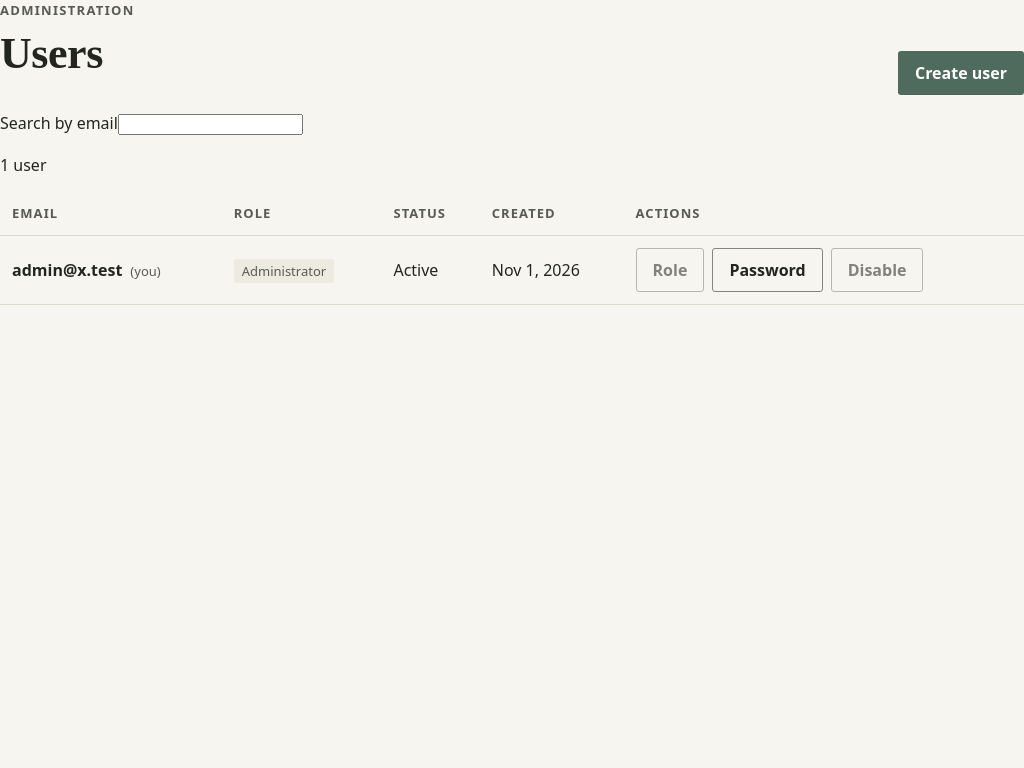
UsersPage › creates a user and shows the new list
This screenshot has width=1024, height=768.
Expected: the text "admin@x.test" is shown, [12,259,122,281]
Click the button "Create user".
click(961, 73)  # box [898,51,1023,95]
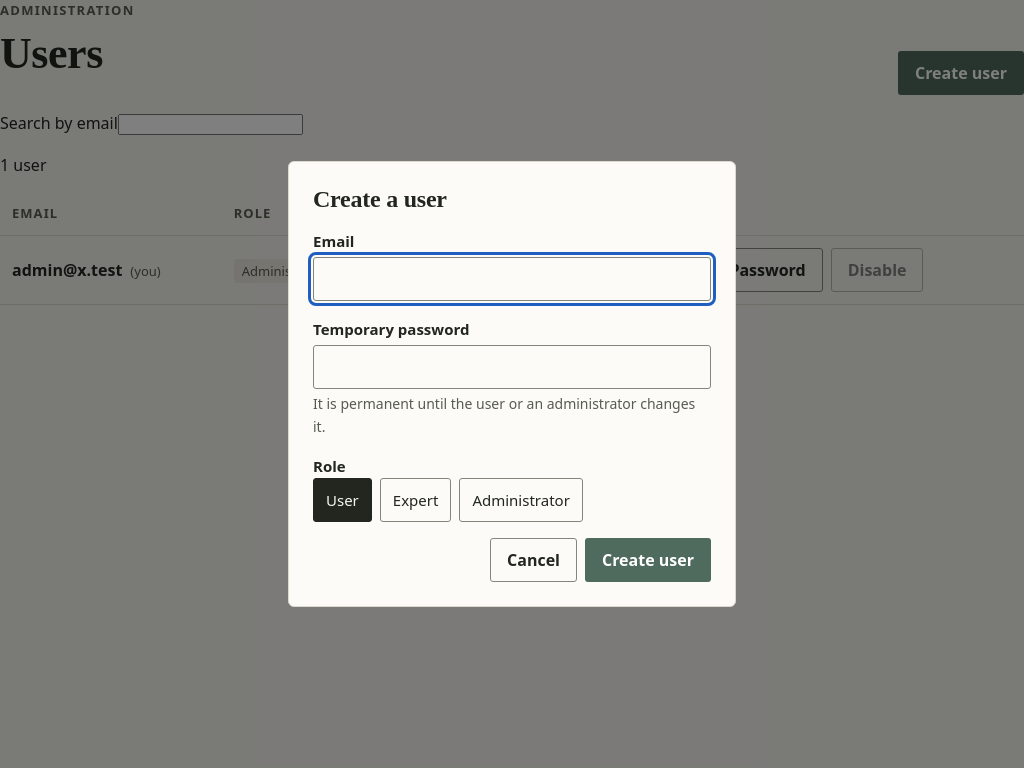
Type "new@x.test" into the field labelled "Email".
click(512, 279); type("new@x.test")  # box [313,257,711,301]
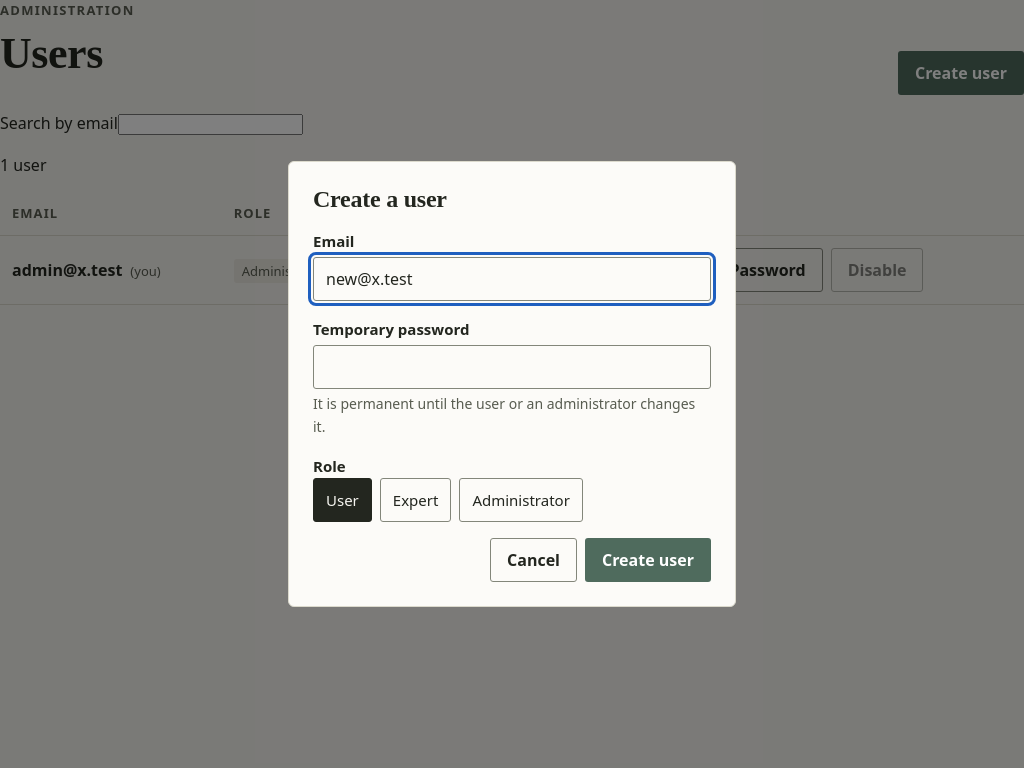
Type "Secret-123!" into the password field labelled "Temporary password".
click(512, 367); type("Secret-123!")  # box [313,345,711,389]
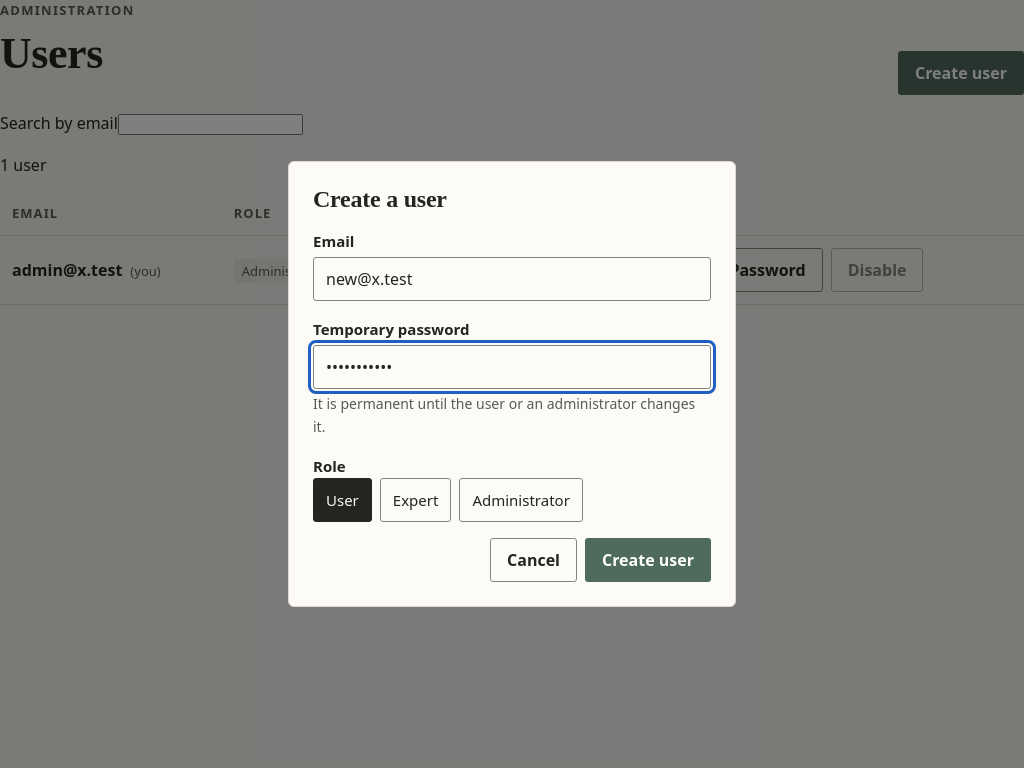
Click the radio button labelled "Expert".
click(416, 500)  # box [380,478,451,522]
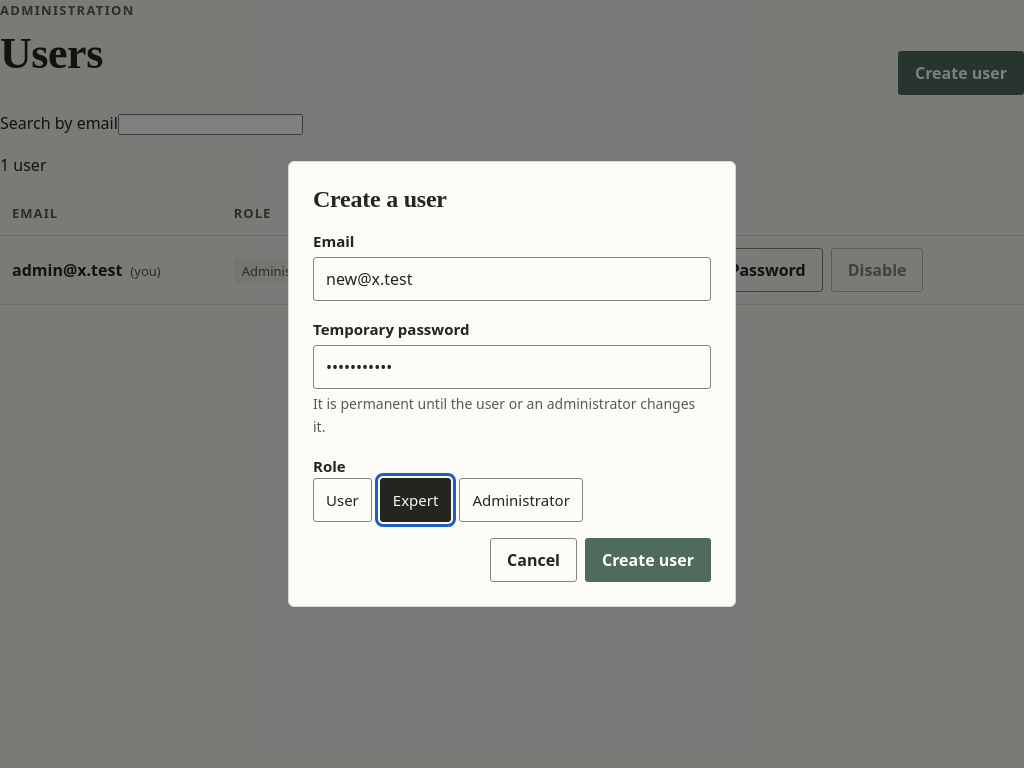
Click the button "Create user".
click(648, 560)  # box [585,538,711,582]
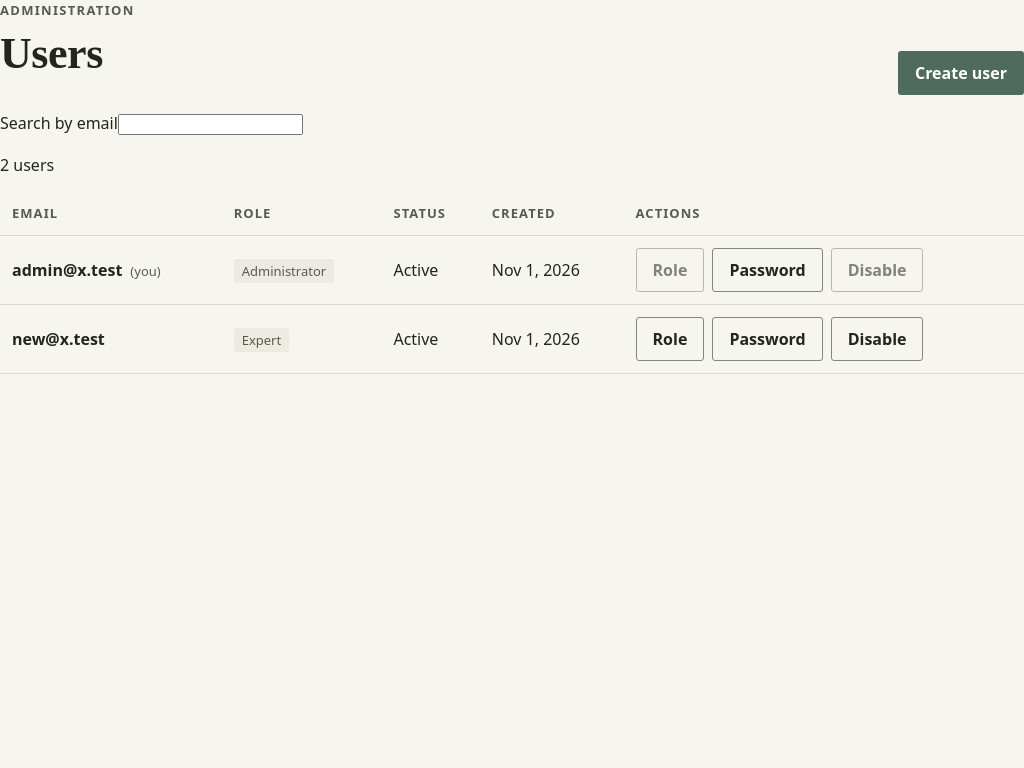
Now the text "new@x.test" is shown, box [12,328,105,350]
